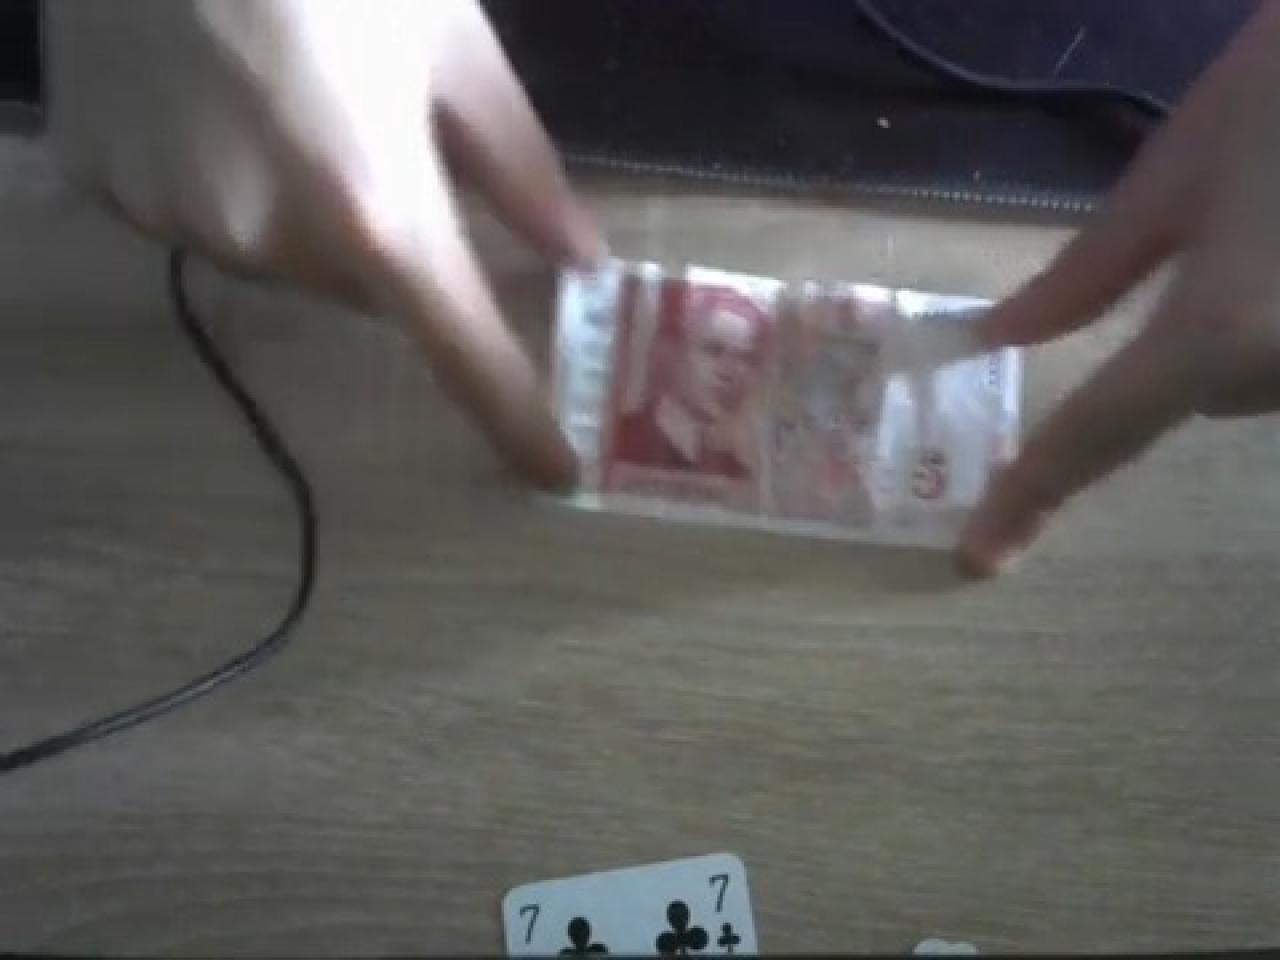5leva: (614, 274, 976, 538)
